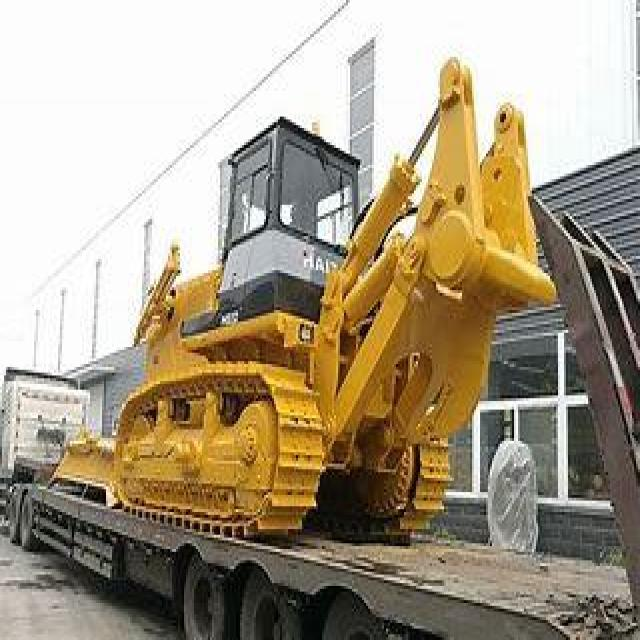buldozerpayloadergrader: (38, 51, 562, 558)
